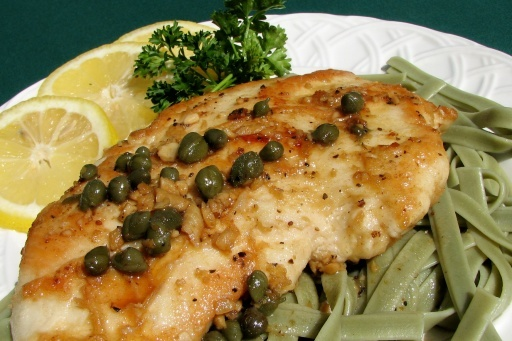background: (0, 1, 410, 181)
